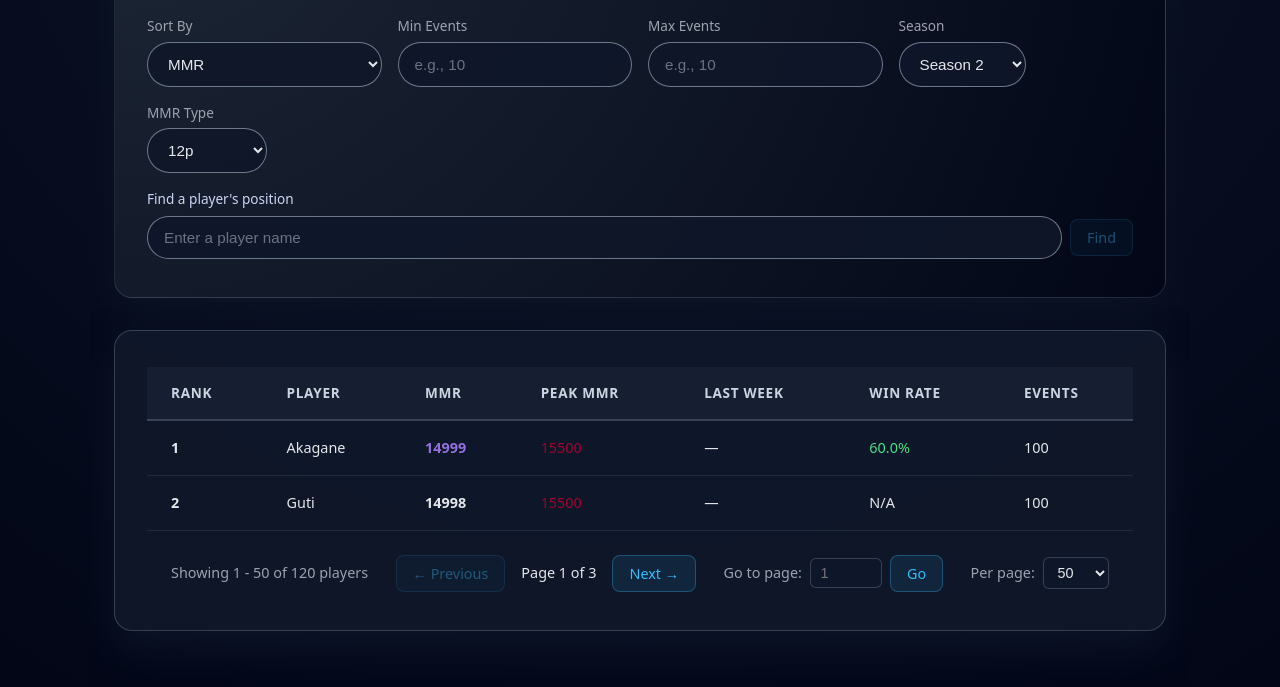
Scenario: Leaderboard table › opens a player's profile for the selected season and ladder
(page scrolled)
Click the button with aria-label "View profile for Guti" at (301, 503), box [286,492,315,514]
(page scrolled)
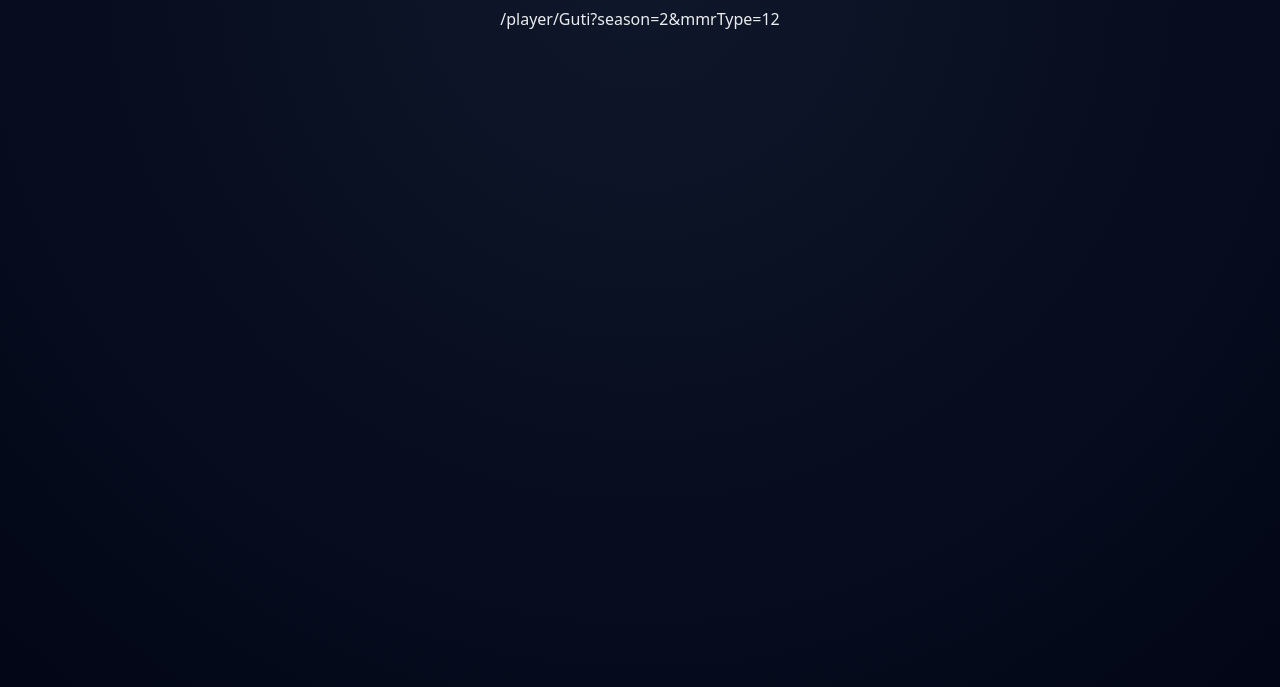
Check: the text with test id "location" reads "/player/Guti?season=2&mmrType=12", box [500,8,780,30]
